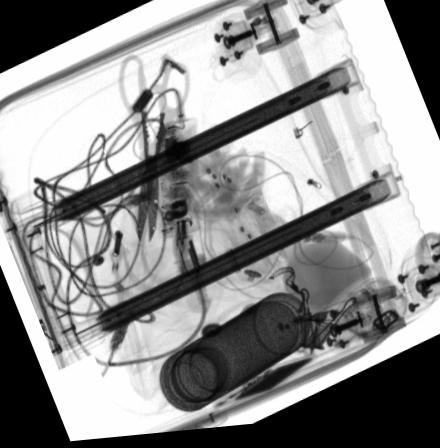Powerbank: (211, 359, 317, 410)
Scissors: (117, 58, 187, 245)
